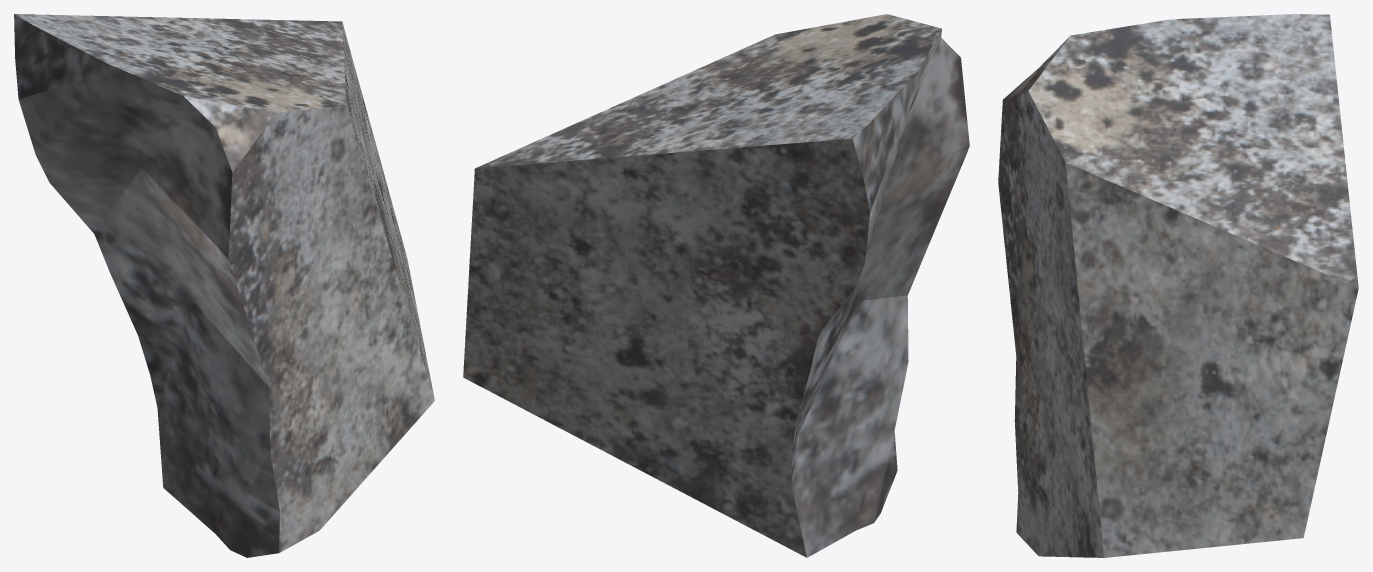
Rendered from Asteroid_Large_001_02_002_03_033.fbx.
3 views of the same model, side by side, from view 1: azimuth 30°, elevation 25°; view 2: azimuth 150°, elevation 25°; view 3: azimuth 270°, elevation 25° (orthographic). The views are drawn at different scales.
Parts seen in each view (by area): view 1: Asteroid_Large_001_02_002_03_033; view 2: Asteroid_Large_001_02_002_03_033; view 3: Asteroid_Large_001_02_002_03_033.
Boxes of the visible parts, x1,y1,x2,y2 form: Asteroid_Large_001_02_002_03_033: (14, 14, 434, 557); Asteroid_Large_001_02_002_03_033: (463, 14, 969, 557); Asteroid_Large_001_02_002_03_033: (998, 14, 1358, 557).
Bounding box in the file's own units: 8.08 × 9.53 × 6.4.
